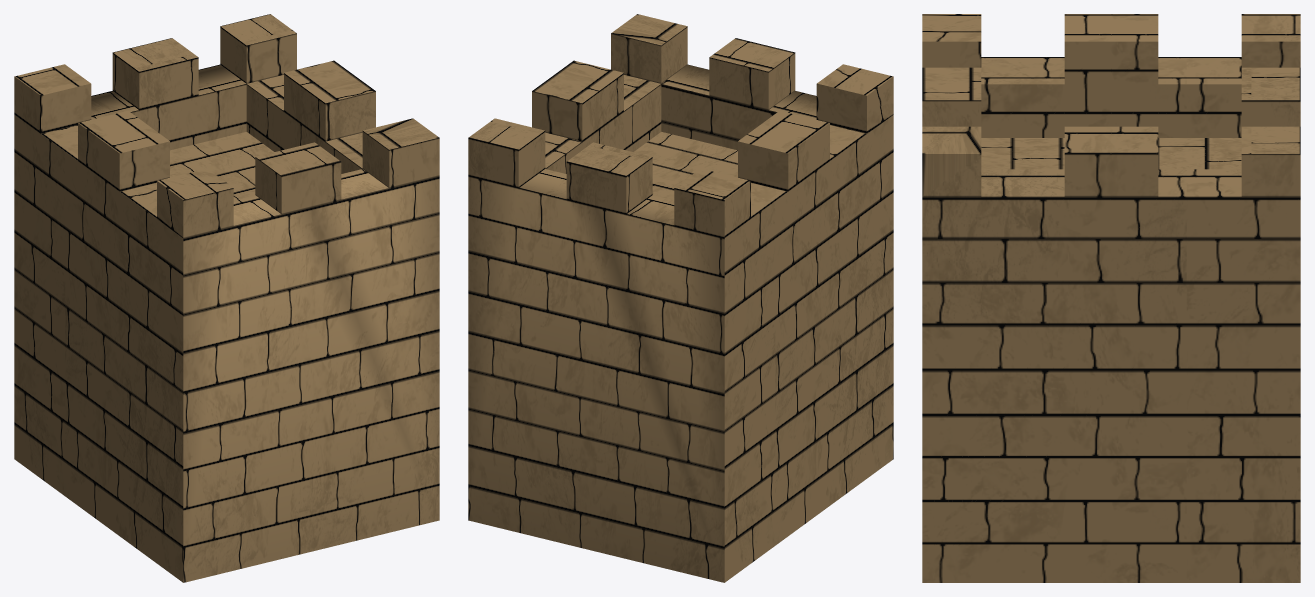
The model's file is Castillo.fbx.
3 renders of one model, left to right at view 1: azimuth 30°, elevation 25°; view 2: azimuth 150°, elevation 25°; view 3: azimuth 270°, elevation 25°, orthographic. The views are drawn at different scales.
Parts seen in each view (by area): view 1: Box001; view 2: Box001; view 3: Box001.
Part boxes in pixels (box(x1,y1,x2,y2)): Box001: box(14, 14, 439, 582); Box001: box(468, 14, 893, 582); Box001: box(922, 14, 1300, 582).
Size of the model in its own units: 2.8 by 4 by 3.2.
1 material, 1 textured.
